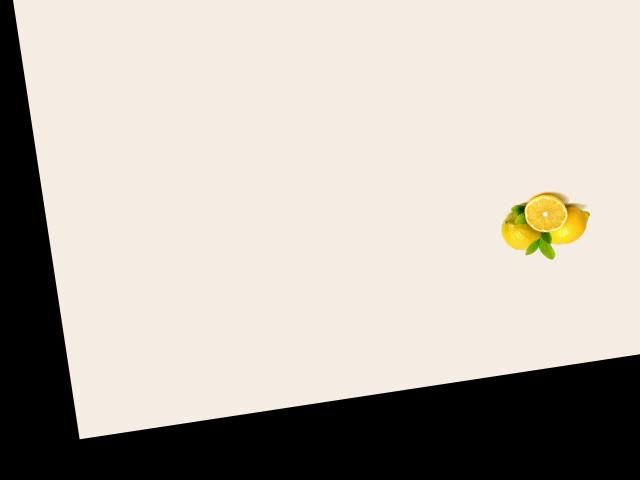lemon: (495, 204, 548, 256)
